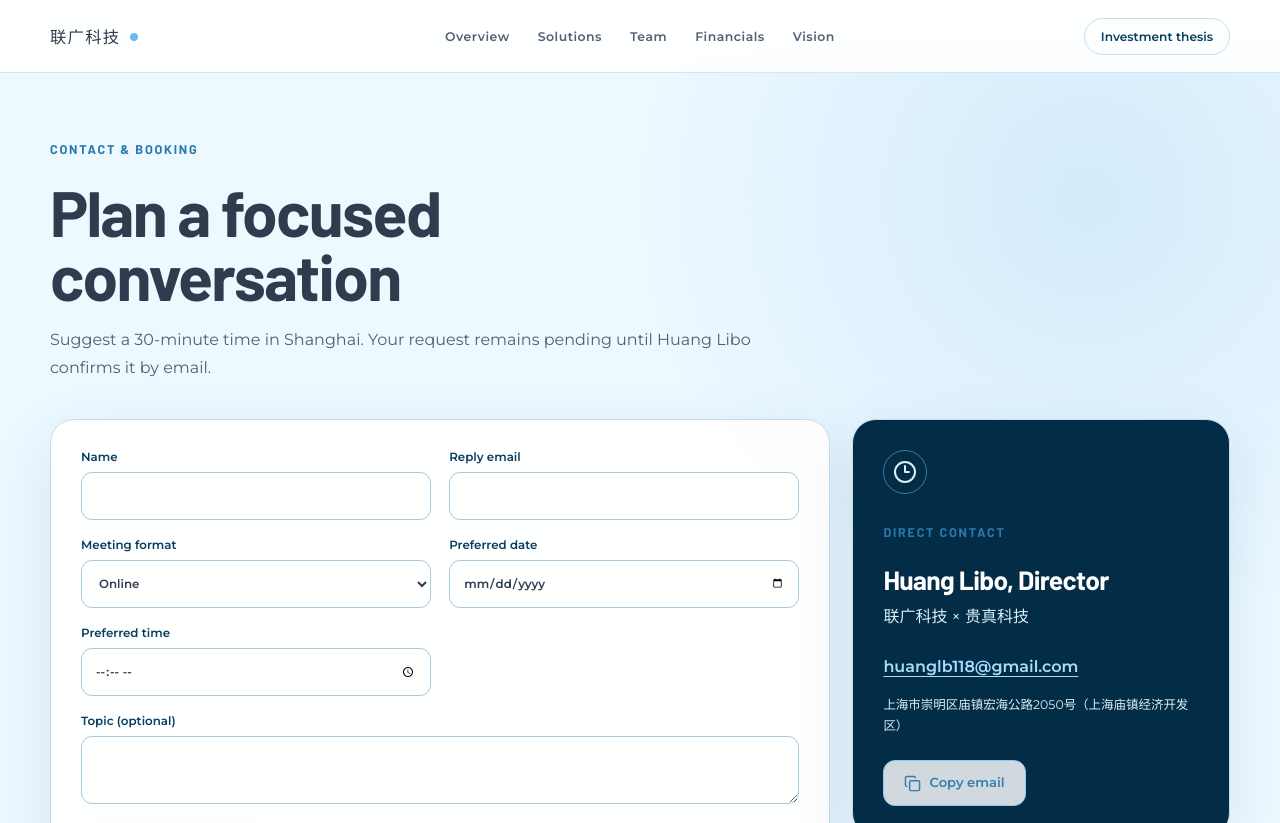
Test: site interactions › copies a meeting request and reports success
(page scrolled)
Type "Ada Lovelace" into the field labelled "Name" at (256, 496), box 81,472 -> 431,520
Type "ada@example.com" into the field labelled "Reply email" at (624, 496), box 449,472 -> 799,520
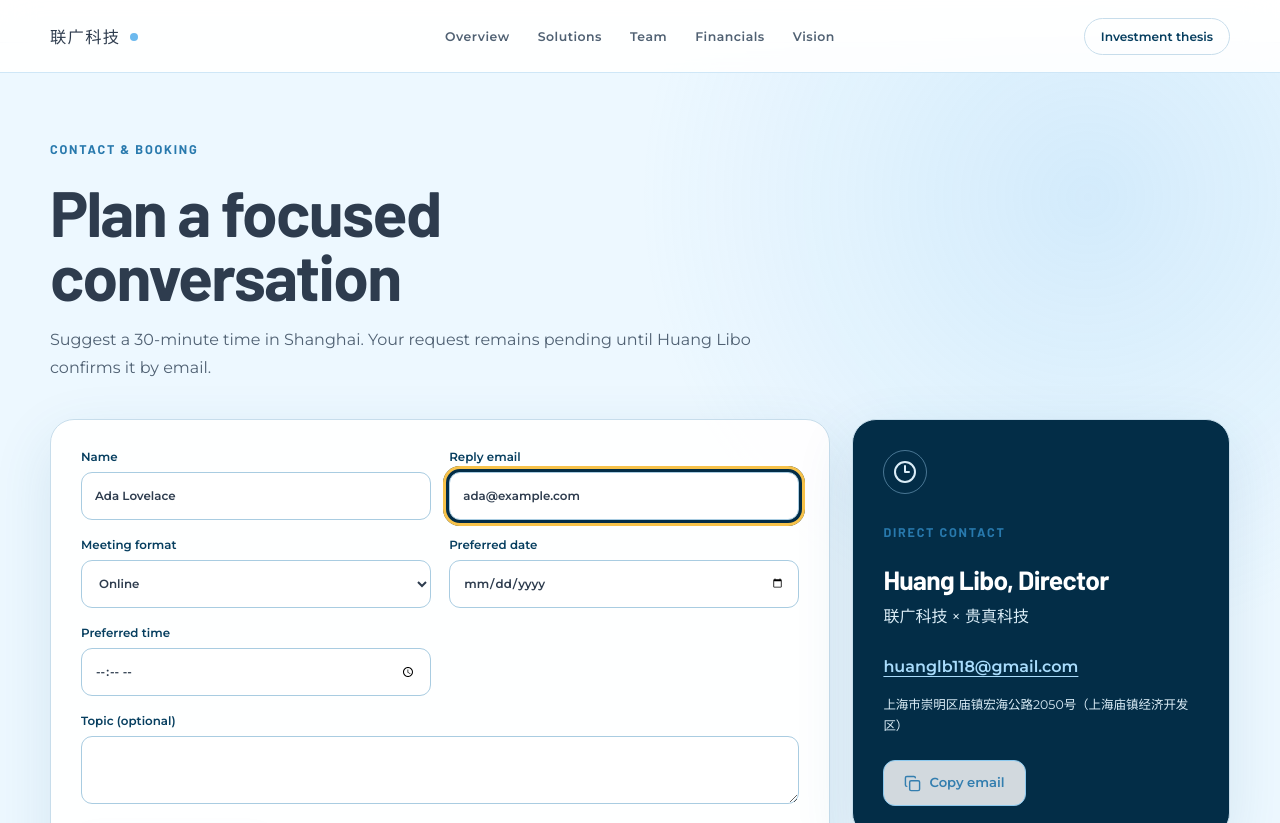
Select "In person · Shanghai Chongming" in the dropdown labelled "Meeting format" at (256, 584), box 81,560 -> 431,608
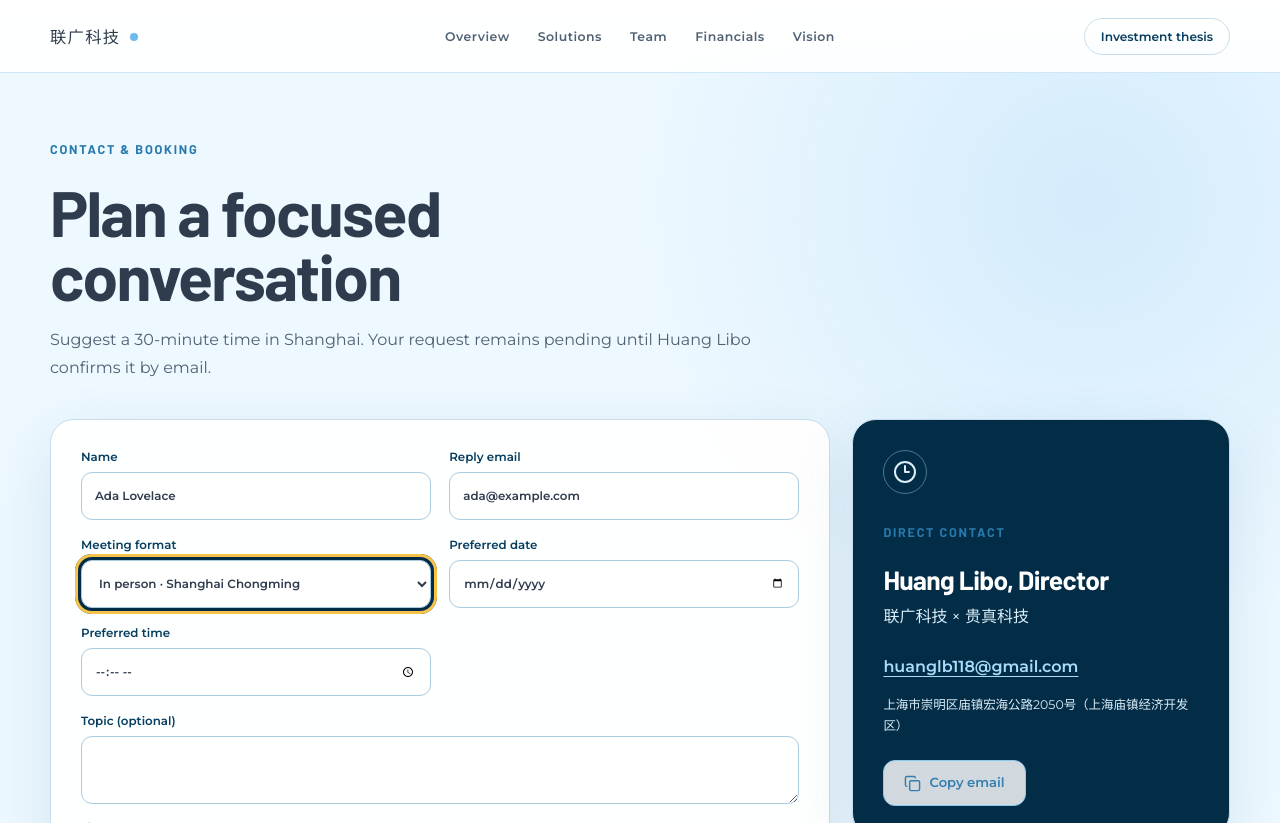
Type "2099-08-20" into the date field labelled "Preferred date" at (624, 584), box 449,560 -> 799,608
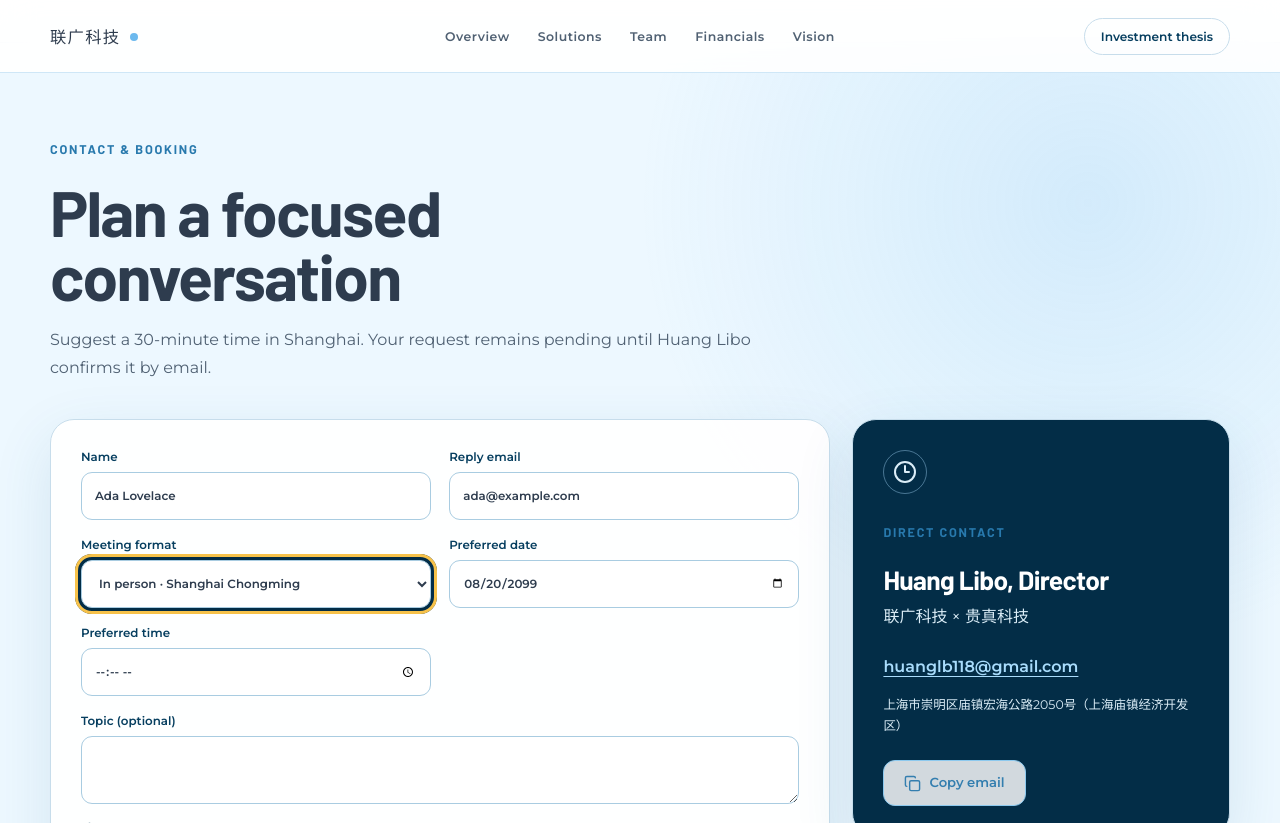
Type "14:30" into the time field labelled "Preferred time" at (256, 672), box 81,648 -> 431,696
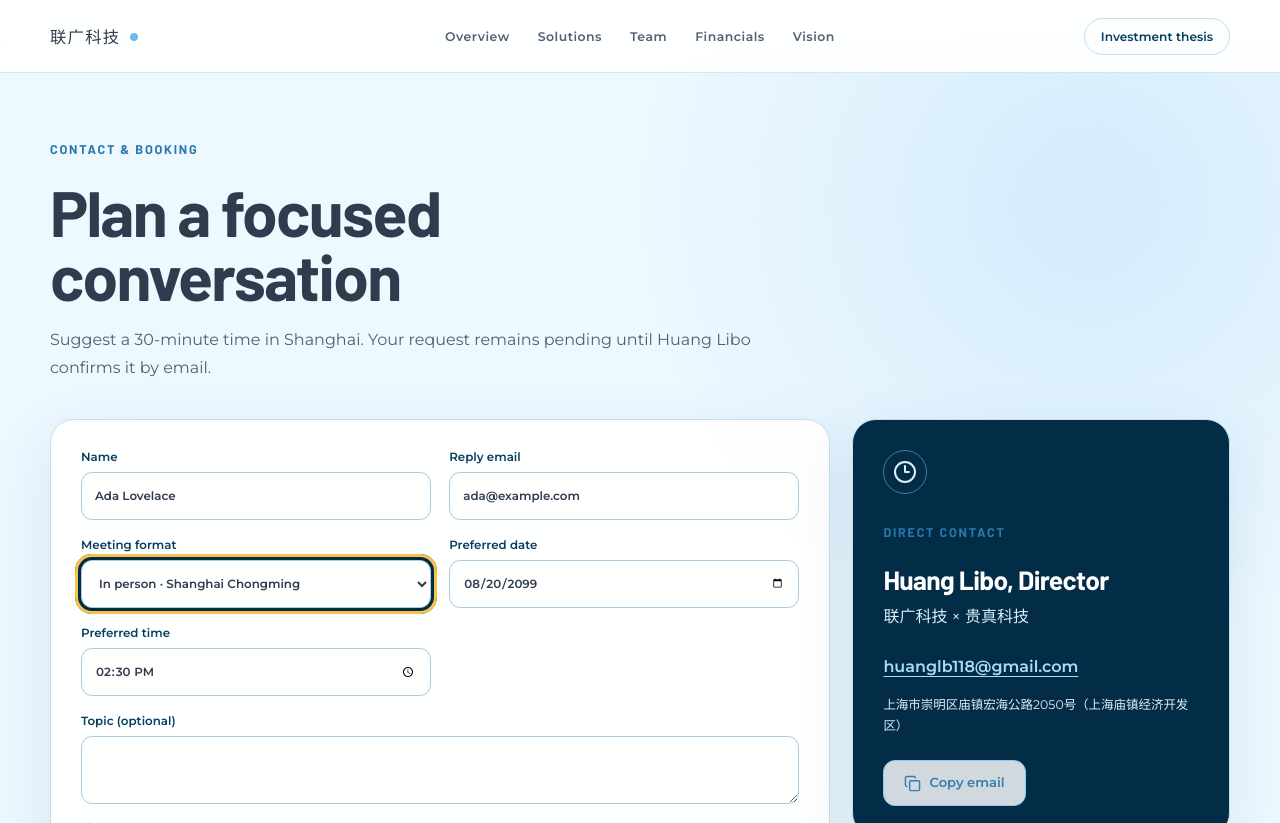
Type "Compute partnership" into the text box labelled "Topic (optional)" at (440, 770), box 81,736 -> 799,804
(page scrolled)
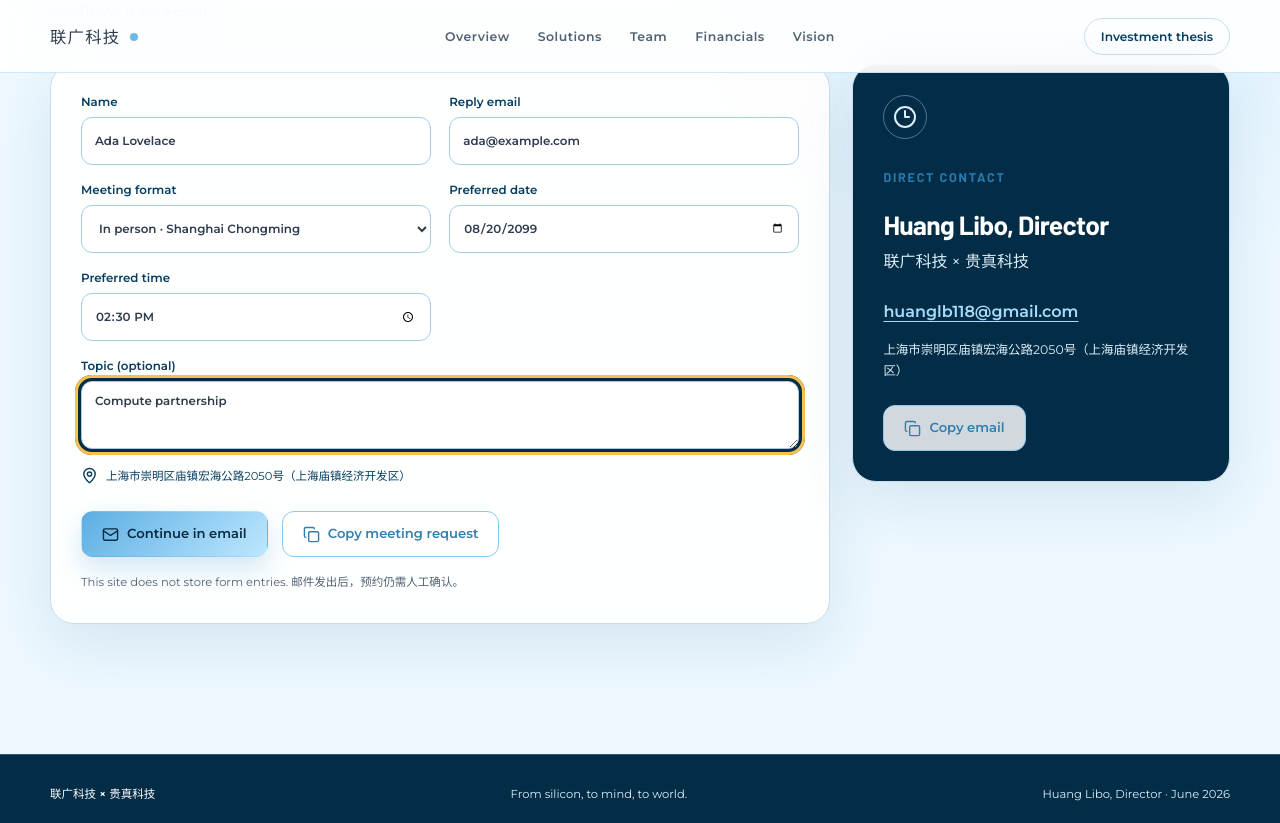
Click the button "Copy meeting request" at (390, 534), box 282,511 -> 499,557
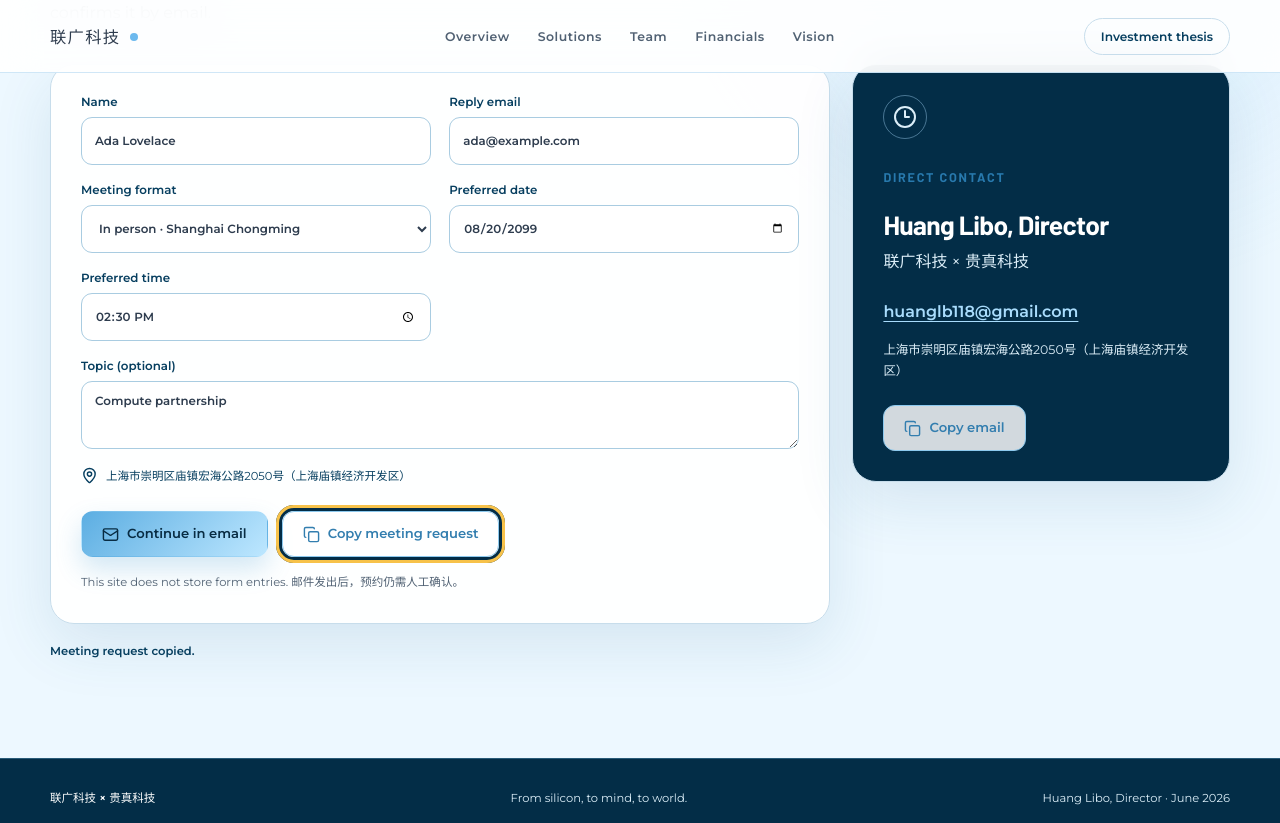
Expected: the message reads "Meeting request copied.", 50,644 -> 194,658
